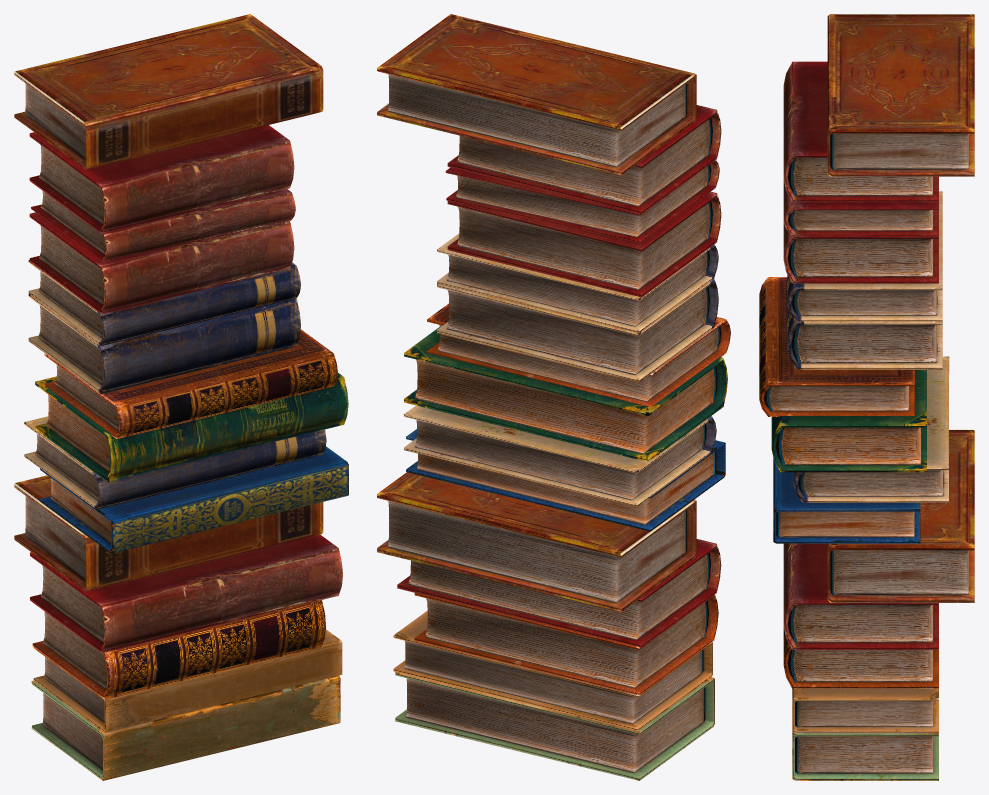
The model's file is BooksVariants.fbx.
3 renders of one model, left to right at view 1: azimuth 30°, elevation 25°; view 2: azimuth 150°, elevation 25°; view 3: azimuth 270°, elevation 25°, orthographic. The views are drawn at different scales.
Visible parts, largest first — view 1: pasted__Books150, pasted__Books134, pasted__Books146, pasted__Books131, pasted__Books136, pasted__Books137, pasted__Books133, pasted__Books145, pasted__Books138, pasted__Books144, pasted__Books135, pasted__Books132 (+3 smaller); view 2: pasted__Books150, pasted__Books135, pasted__Books137, pasted__Books131, pasted__Books133, pasted__Books145, pasted__Books139, pasted__Books144, pasted__Books134, pasted__Books132, pasted__Books146, pasted__Books148 (+3 smaller); view 3: pasted__Books150, pasted__Books135, pasted__Books134, pasted__Books138, pasted__Books137, pasted__Books146, pasted__Books144, pasted__Books145, pasted__Books139, pasted__Books131, pasted__Books136, pasted__Books132 (+3 smaller).
Part boxes in pixels (x1,y1,x2,y2): pasted__Books150: [14, 14, 323, 169]; pasted__Books134: [30, 534, 342, 653]; pasted__Books146: [29, 125, 294, 233]; pasted__Books131: [31, 675, 340, 780]; pasted__Books136: [40, 446, 348, 553]; pasted__Books137: [35, 373, 348, 482]; pasted__Books133: [32, 599, 326, 699]; pasted__Books145: [29, 212, 294, 314]; pasted__Books138: [44, 329, 337, 438]; pasted__Books144: [28, 293, 300, 394]; pasted__Books135: [14, 475, 323, 591]; pasted__Books132: [33, 629, 342, 732]; pasted__Books150: [377, 14, 696, 174]; pasted__Books135: [377, 472, 696, 611]; pasted__Books137: [404, 327, 727, 461]; pasted__Books131: [395, 672, 714, 780]; pasted__Books133: [414, 592, 718, 695]; pasted__Books145: [447, 192, 721, 297]; pasted__Books139: [403, 405, 716, 506]; pasted__Books144: [437, 278, 718, 382]; pasted__Books134: [397, 539, 721, 647]; pasted__Books132: [393, 610, 712, 730]; pasted__Books146: [447, 105, 721, 213]; pasted__Books148: [437, 233, 718, 332]; pasted__Books150: [827, 14, 974, 176]; pasted__Books135: [827, 429, 974, 602]; pasted__Books134: [783, 543, 938, 649]; pasted__Books138: [759, 277, 914, 416]; pasted__Books137: [771, 370, 926, 472]; pasted__Books146: [783, 61, 938, 202]; pasted__Books144: [787, 306, 942, 369]; pasted__Books145: [783, 223, 938, 283]; pasted__Books139: [793, 356, 949, 502]; pasted__Books131: [792, 732, 938, 780]; pasted__Books136: [773, 458, 920, 543]; pasted__Books132: [792, 688, 938, 733].
Bounding box in the file's own units: 45.59 × 117 × 34.96.
